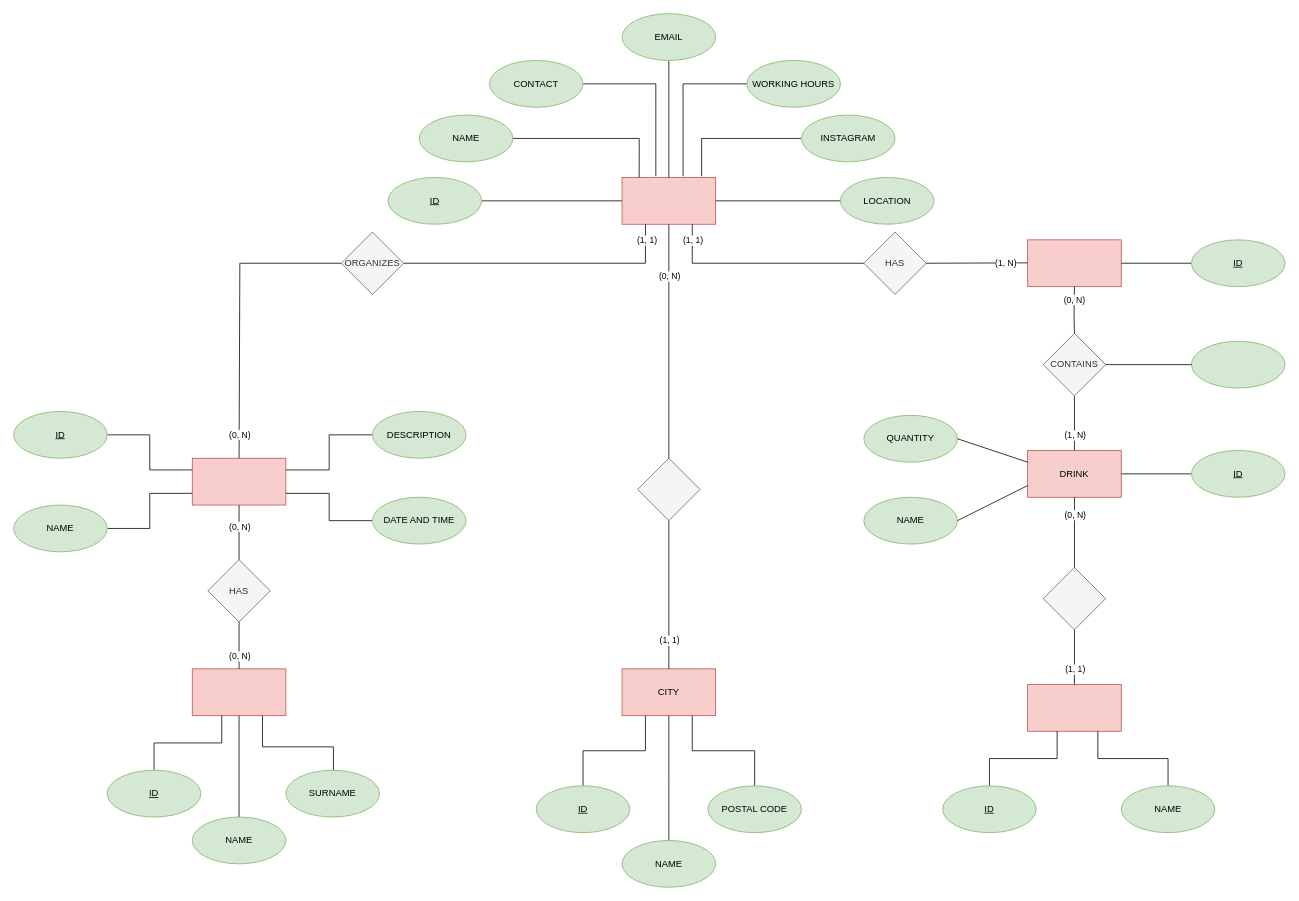
The diagram is 1299 pixels wide and 901 high, and some of its shapes have lost their labels. The shapes that lost their labels are listed below. From the top down, each one's box as (x1, y1, x2, y2) in pixels, then its label:
(621, 177, 716, 224): CLUB
(1027, 239, 1121, 287): PRICELIST
(1191, 340, 1285, 388): PRICE
(191, 457, 286, 505): EVENT
(637, 457, 700, 521): OFFERS
(1042, 567, 1106, 630): TYPE
(191, 668, 286, 716): PERFORMER
(1027, 684, 1121, 731): CATEGORY
